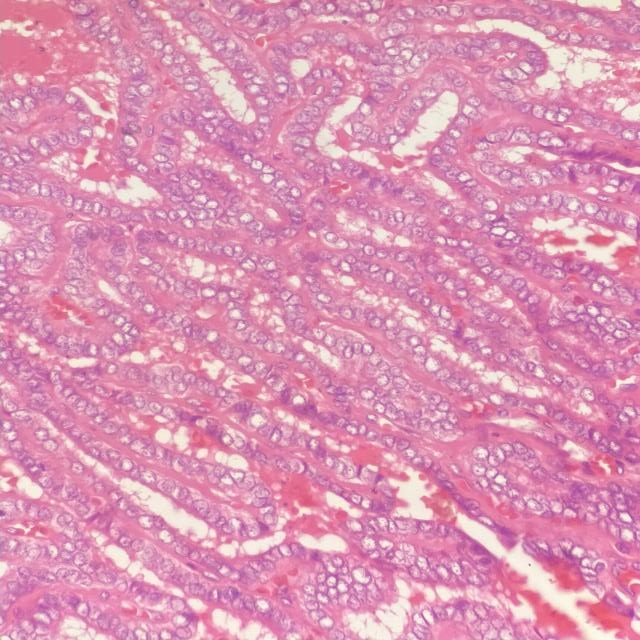TC: (349, 453, 389, 495), (457, 563, 495, 596), (254, 494, 287, 527), (256, 331, 286, 366), (474, 190, 511, 218), (405, 205, 439, 235), (385, 111, 420, 137), (511, 120, 537, 150), (432, 301, 463, 326), (464, 442, 496, 465), (458, 102, 487, 126), (525, 162, 548, 190), (579, 196, 604, 221), (318, 328, 343, 353), (274, 416, 300, 440), (522, 495, 549, 517), (516, 57, 543, 79), (594, 270, 622, 291), (419, 352, 445, 374), (254, 168, 282, 188), (317, 228, 343, 247), (390, 374, 415, 392), (358, 533, 382, 550)
